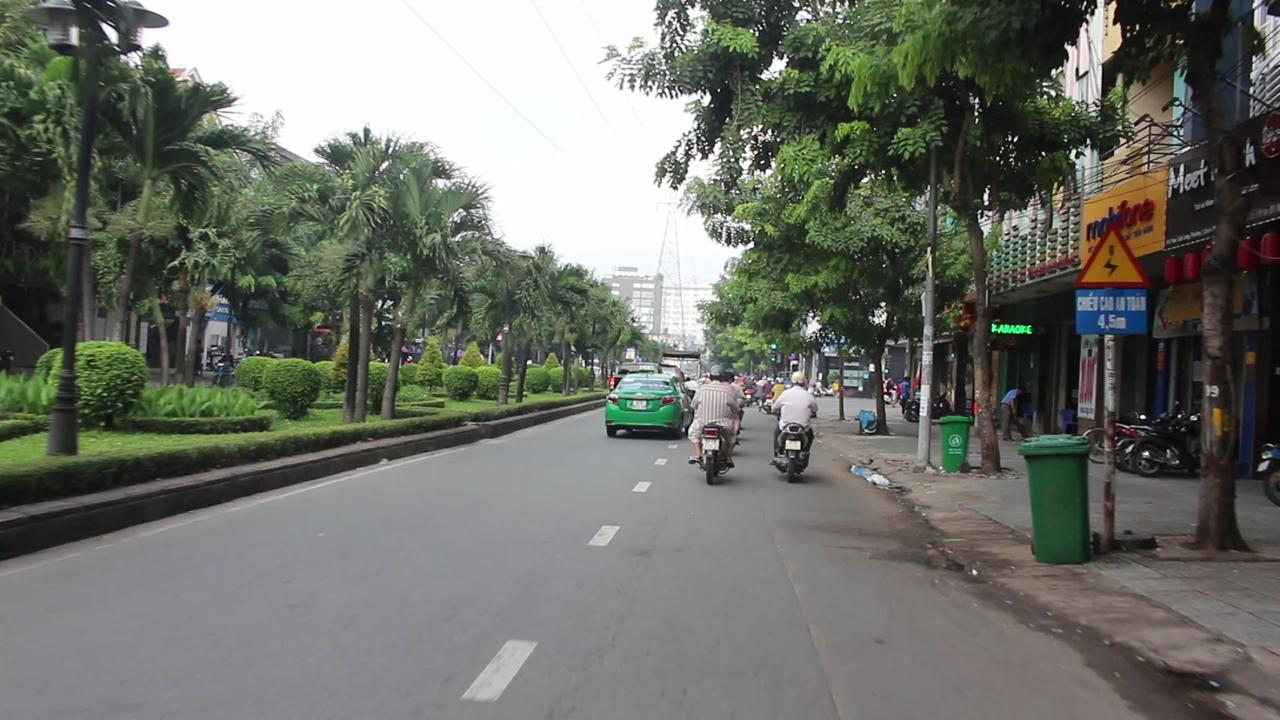P.123b: (1076, 219, 1152, 288)
